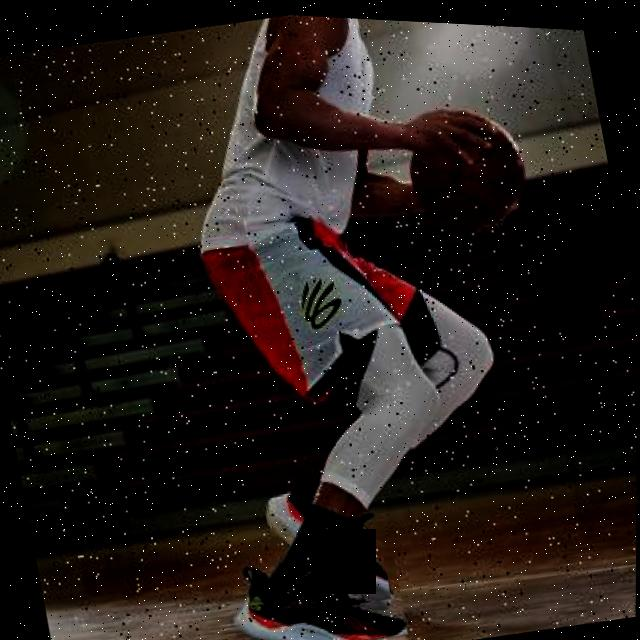shoe: (261, 457, 393, 616), (223, 529, 409, 640)
